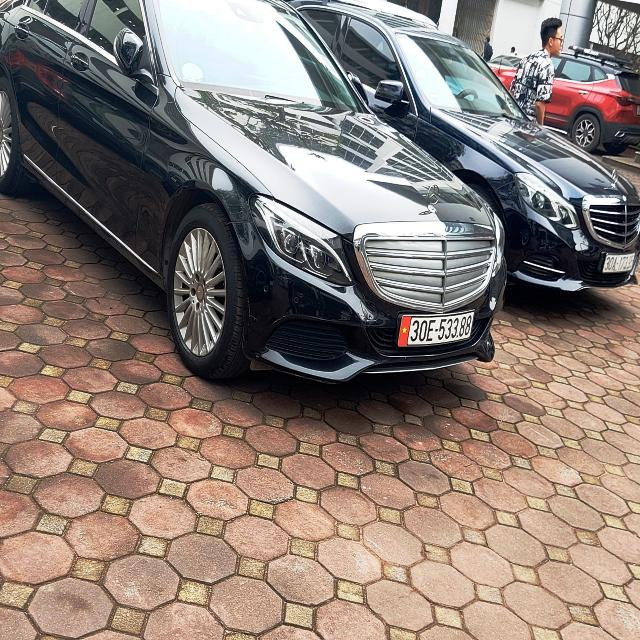license_plate: (399, 313, 476, 347), (603, 255, 636, 274)
